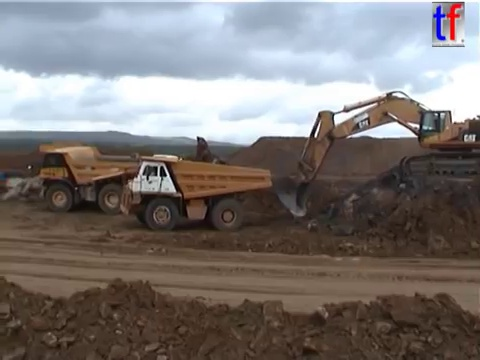excavator: (271, 88, 480, 219)
truck: (117, 152, 273, 232), (26, 141, 169, 214)
worker: (176, 154, 184, 170)
